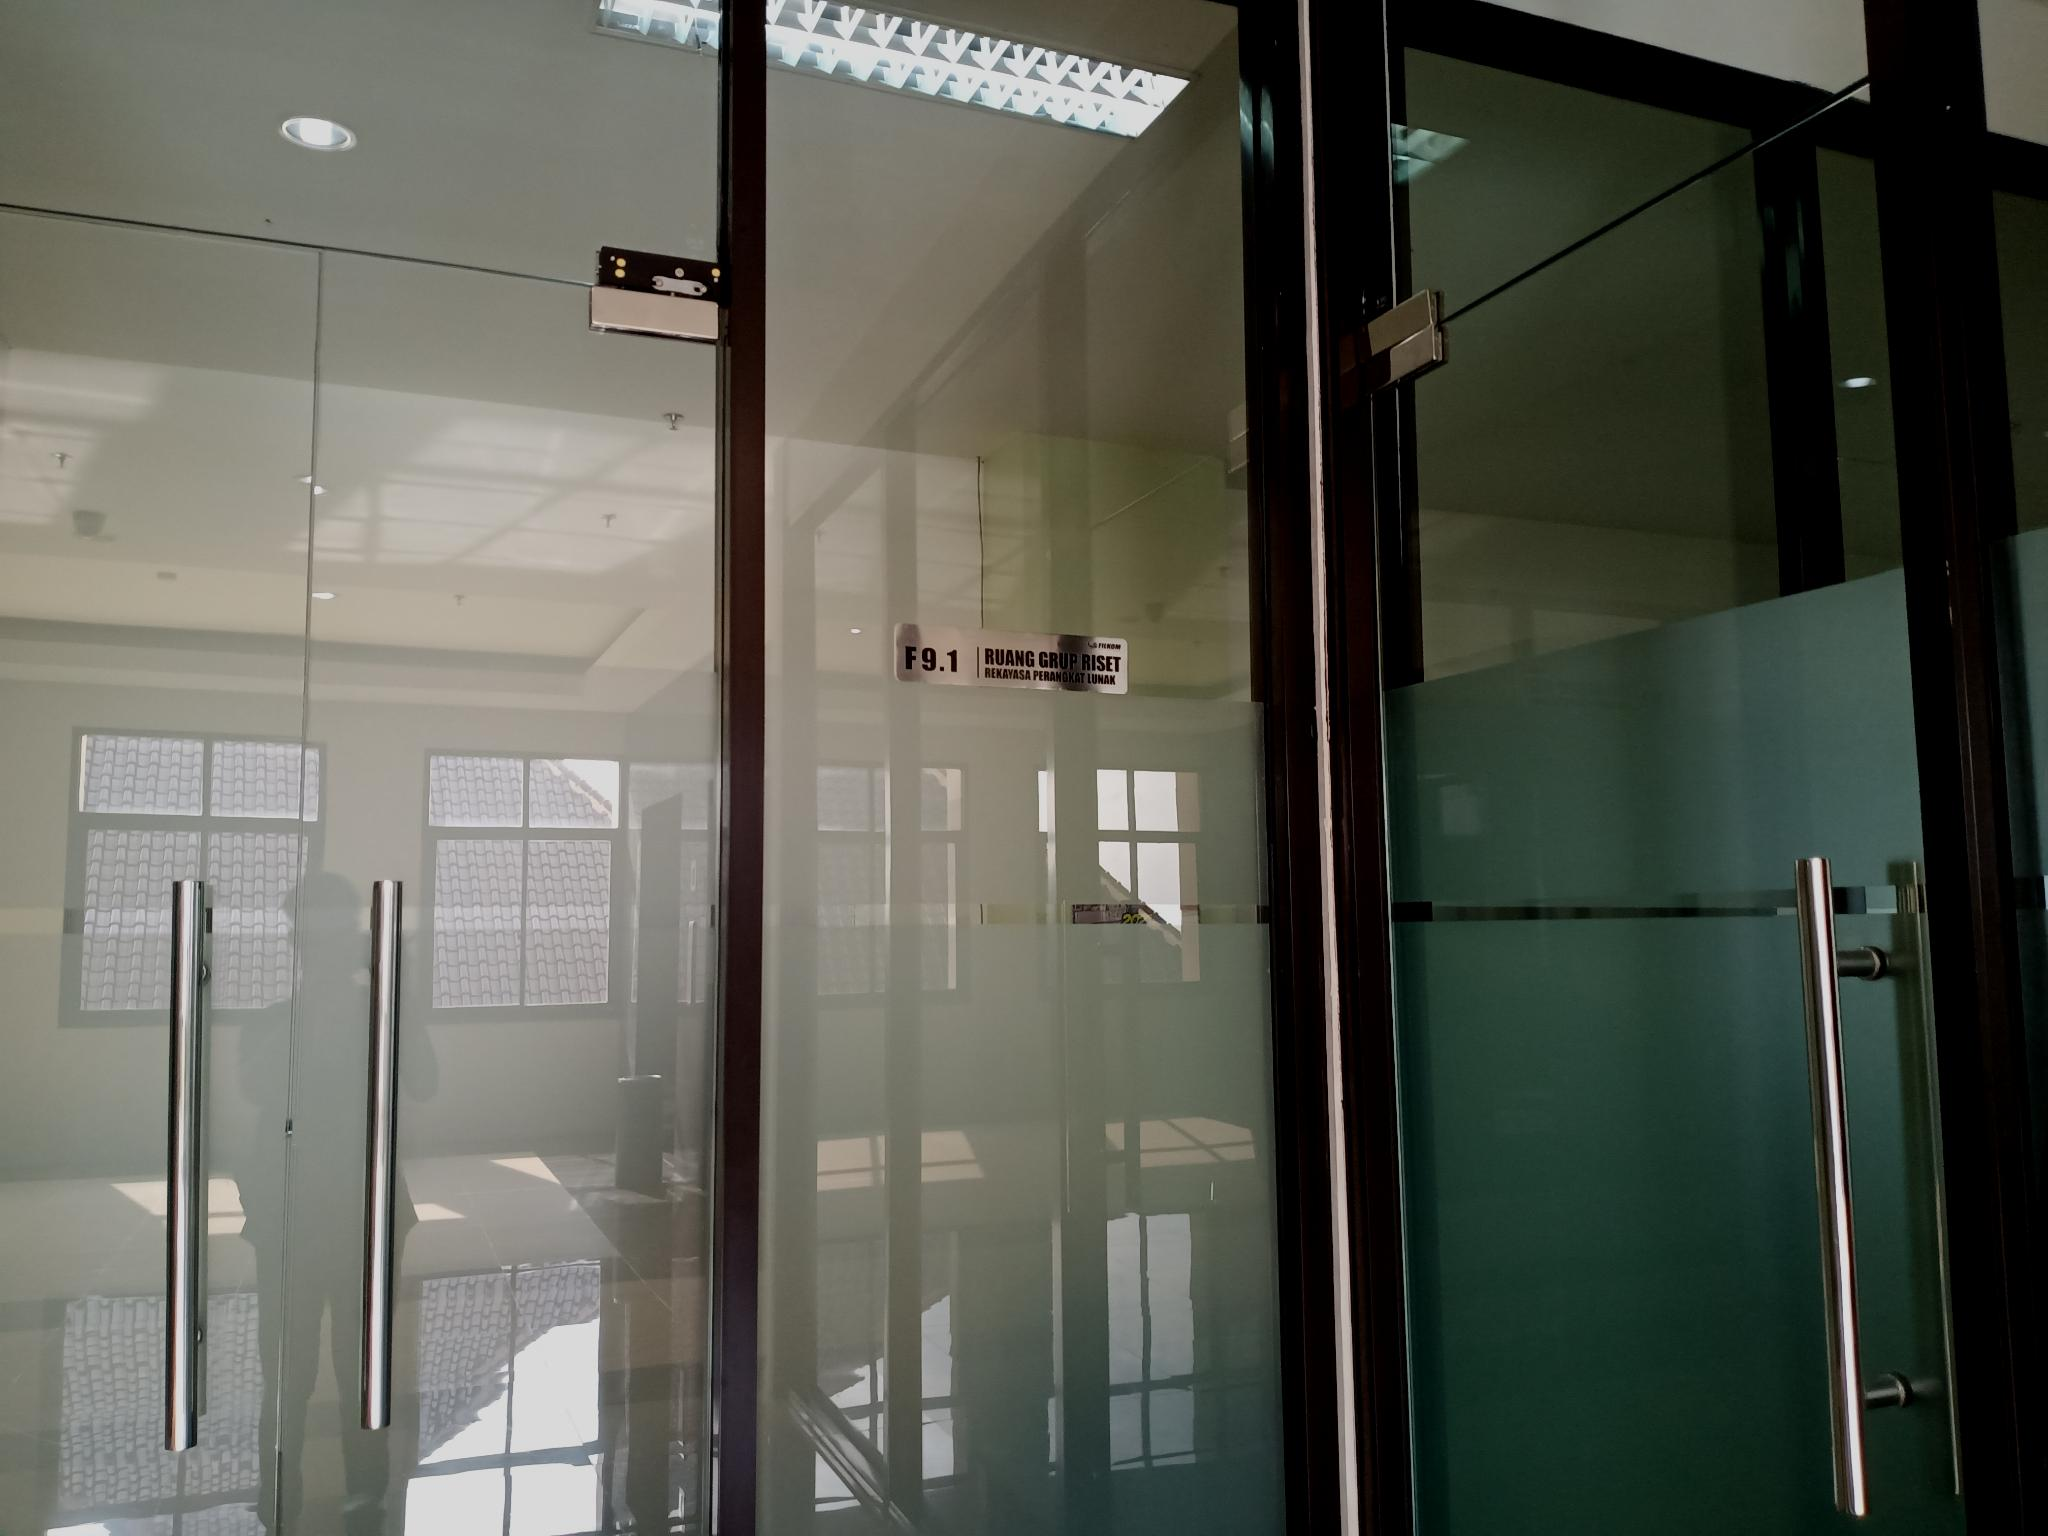plate: (893, 621, 1132, 695)
